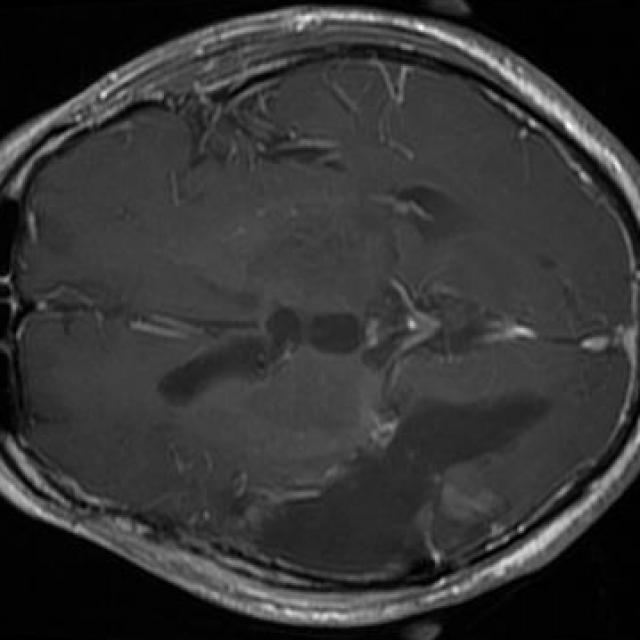glioma: (209, 394, 549, 583)
